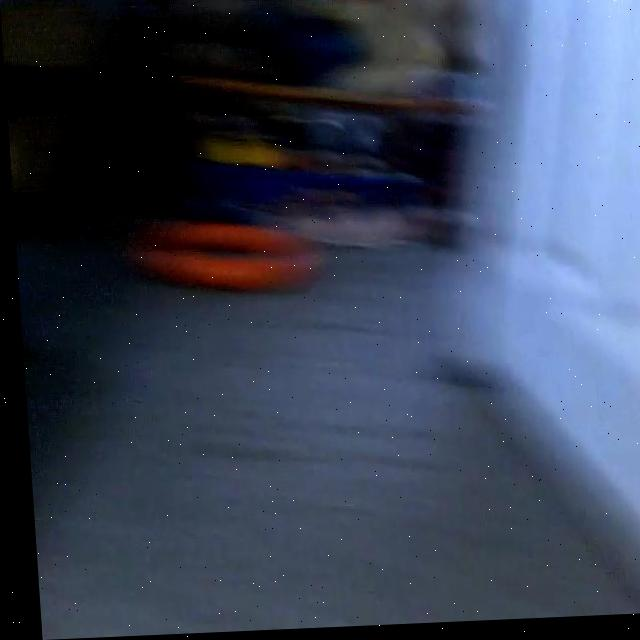note: (121, 211, 321, 308)
